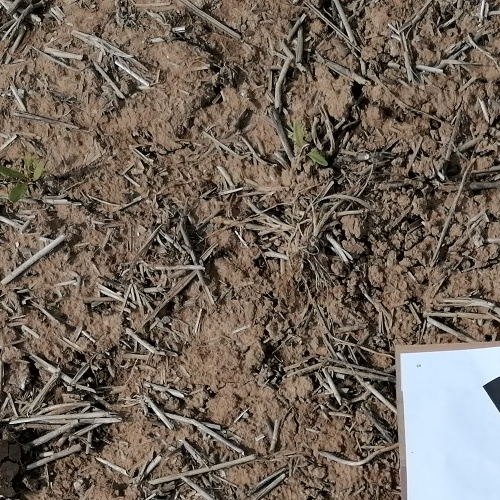beet: (0, 153, 46, 204), (291, 122, 330, 168)
